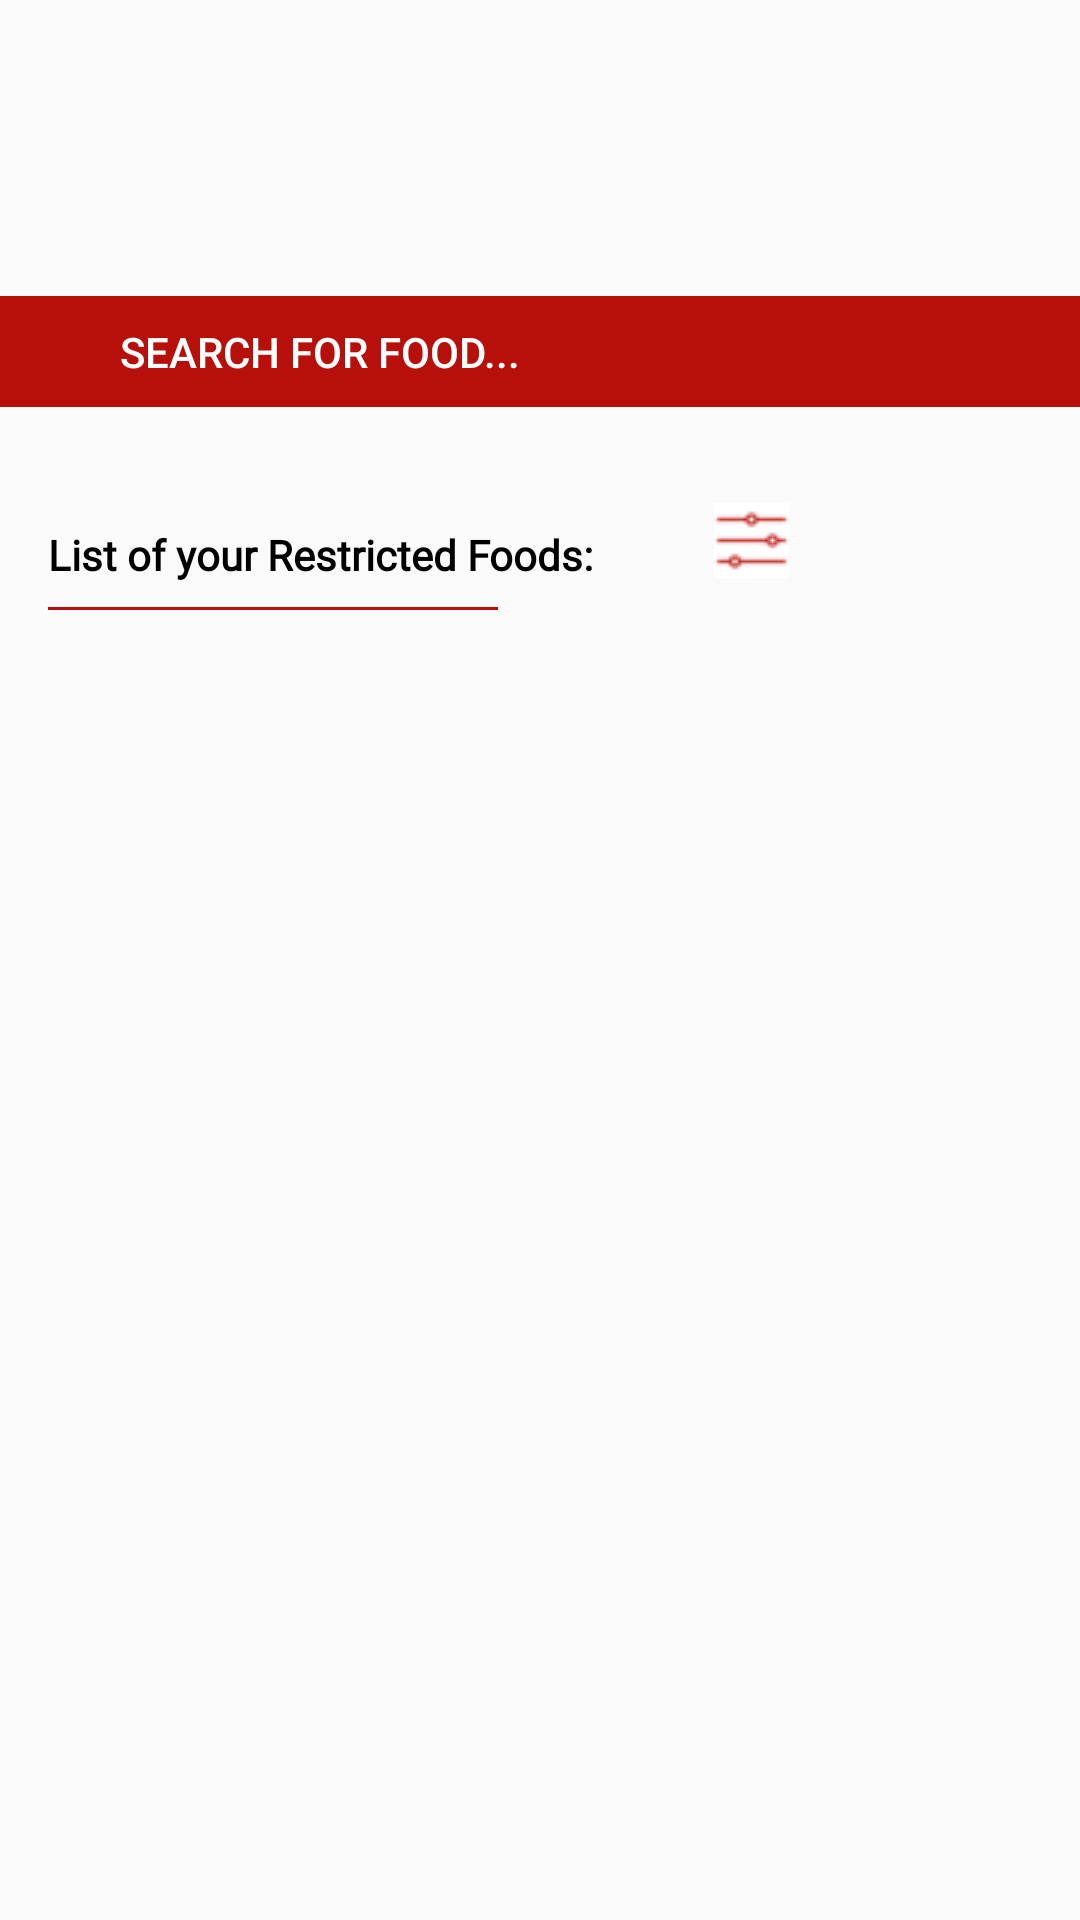

Locate icon controls on the screen. Image size 1080px×1920px, boxes as (x1, y1, x2, y2).
slider filter: (716, 511, 787, 570)
